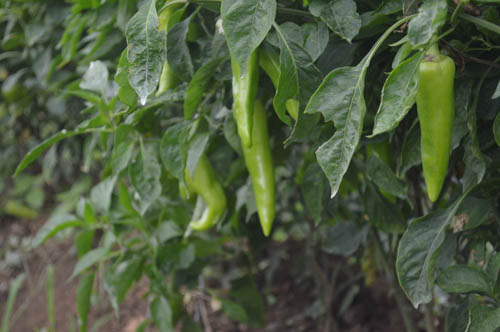ChiliPepper: (233, 103, 278, 233), (416, 59, 454, 206), (228, 42, 260, 147), (182, 156, 224, 233)
